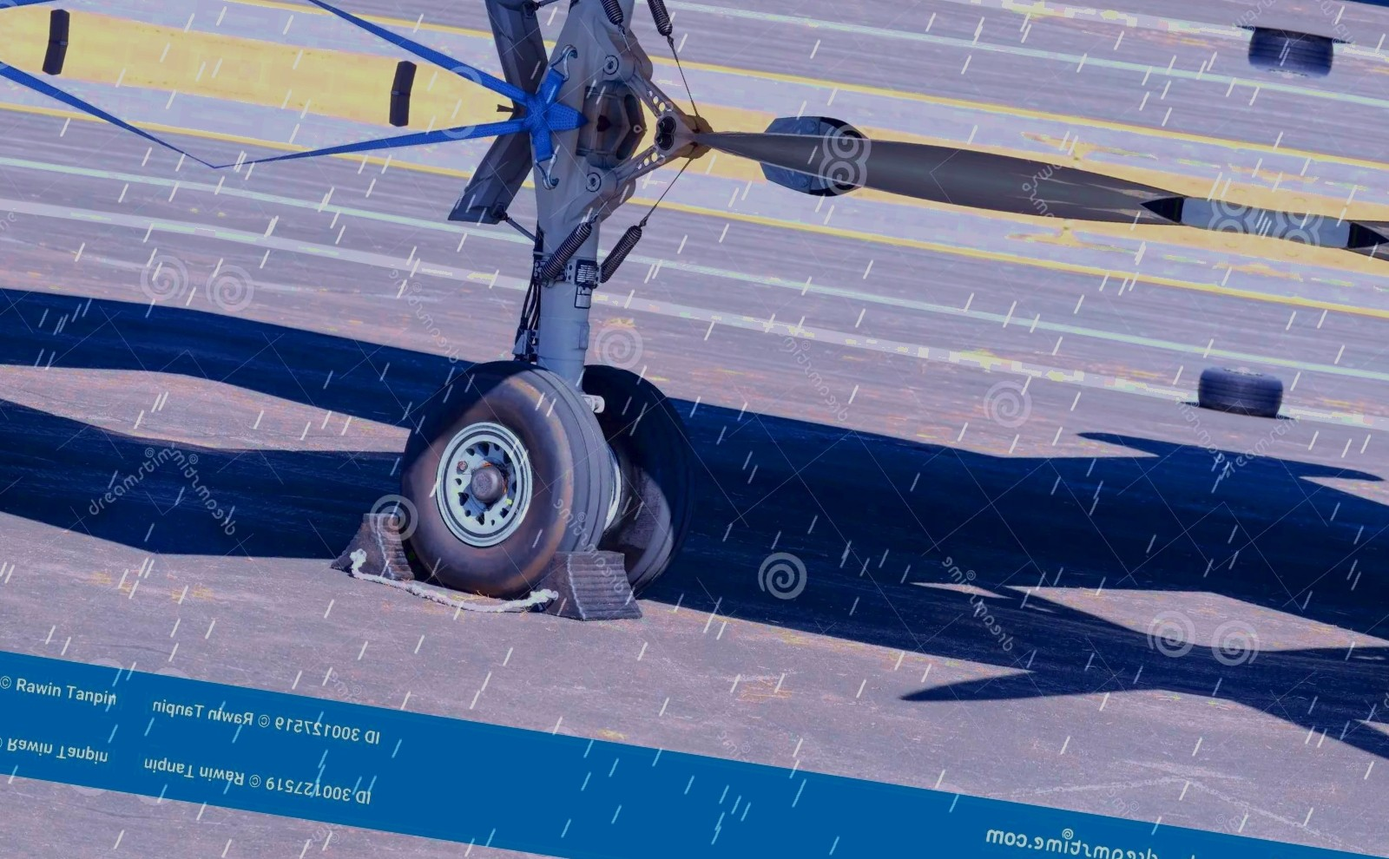chock: (528, 538, 656, 632), (328, 504, 425, 590)
wheel: (385, 346, 631, 610), (545, 359, 716, 607), (1244, 24, 1294, 76), (1194, 362, 1244, 414), (1238, 369, 1288, 421), (1289, 31, 1338, 83)
